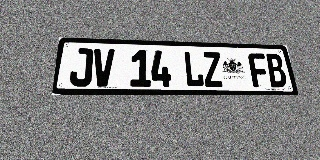1: (130, 50, 151, 87)
4: (151, 50, 171, 87)
B: (265, 54, 288, 87)
F: (247, 53, 271, 87)
J: (69, 48, 93, 87)
L: (183, 51, 205, 87)
V: (92, 49, 115, 87)
Z: (202, 52, 224, 87)
